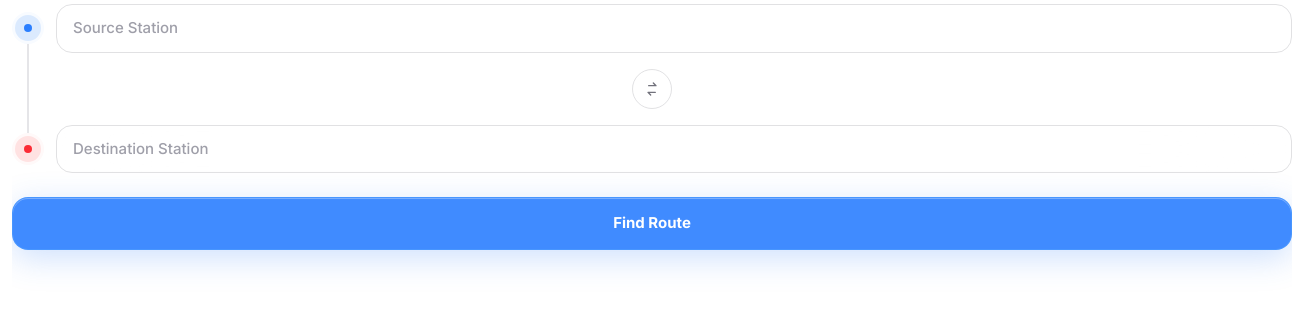
Test: RouteVisualizer › blocks submissions when inputs are missing
Click the button "Find Route".
click(652, 223)  # box x1=12 y1=197 x2=1292 y2=250
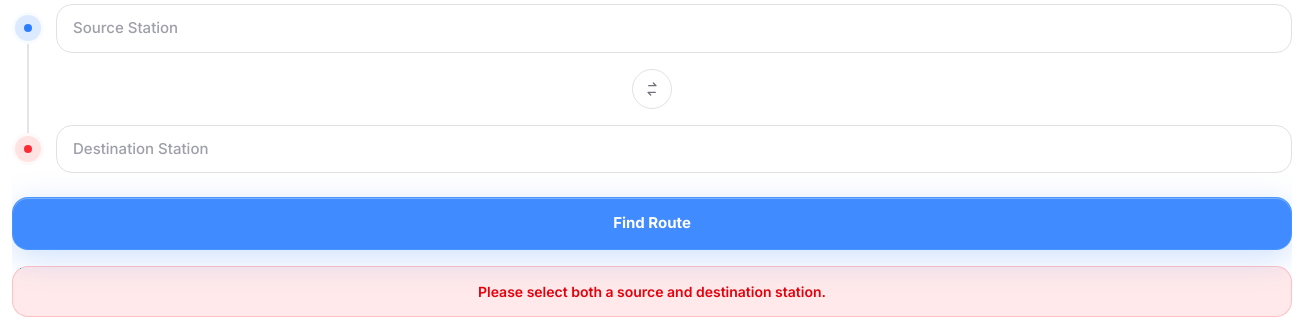
Check: the text "Please select both a source and destination station." is shown, box x1=12 y1=266 x2=1292 y2=316
